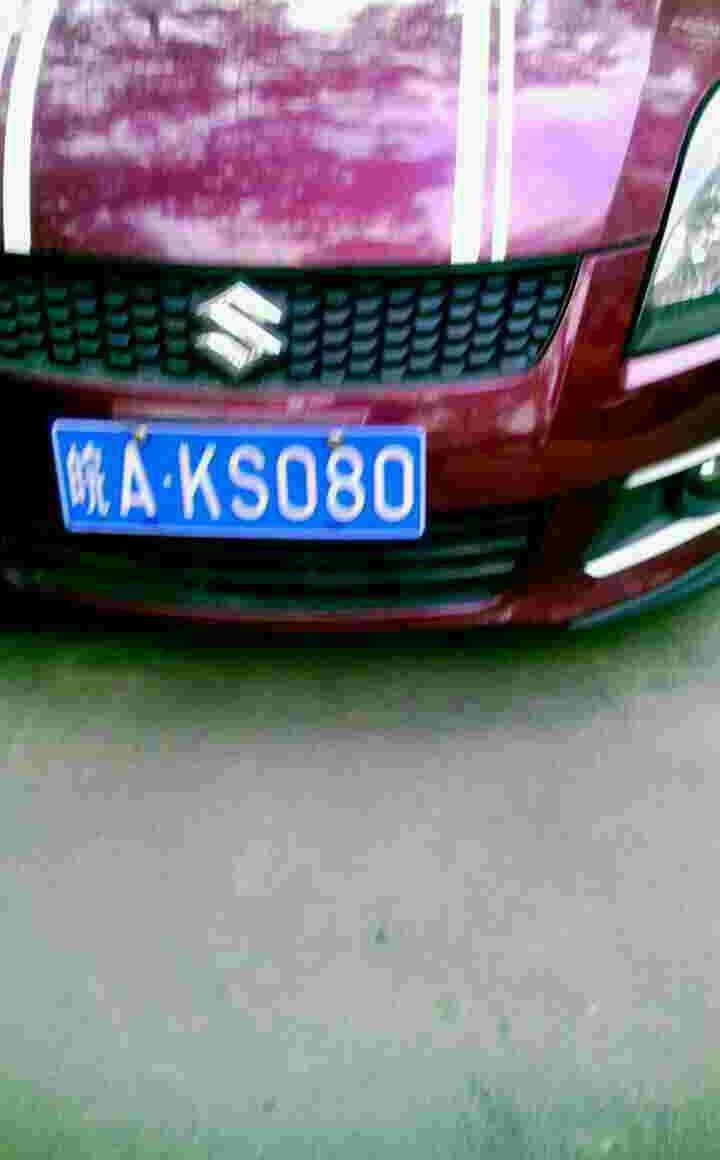license_plate: (59, 421, 414, 543)
